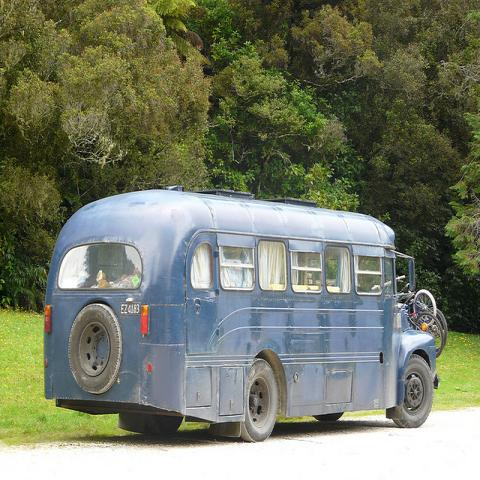bus: (43, 184, 439, 443)
